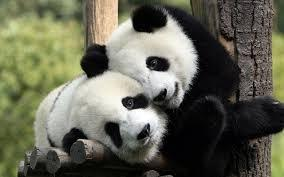bear: (33, 52, 284, 177), (81, 4, 238, 168)
